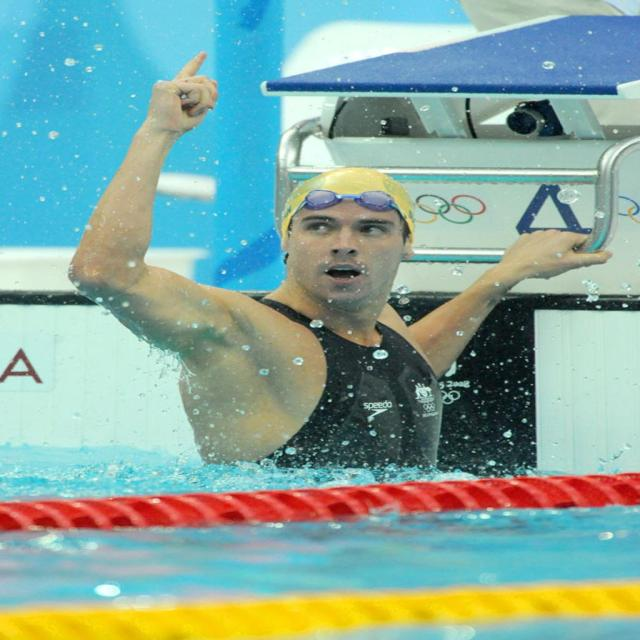Face: (277, 190, 421, 315)
